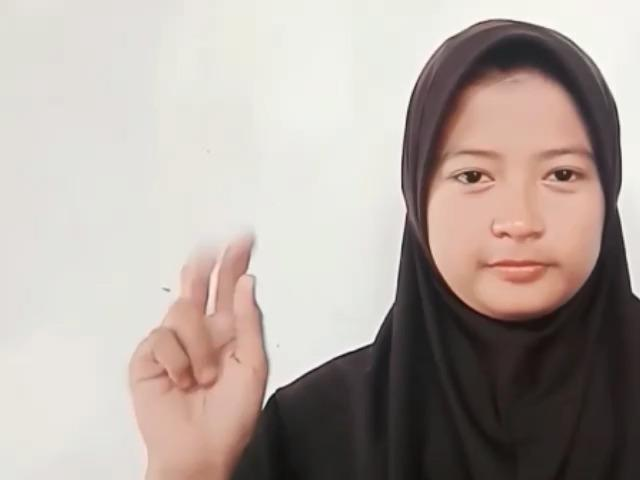U: (125, 228, 272, 464)
